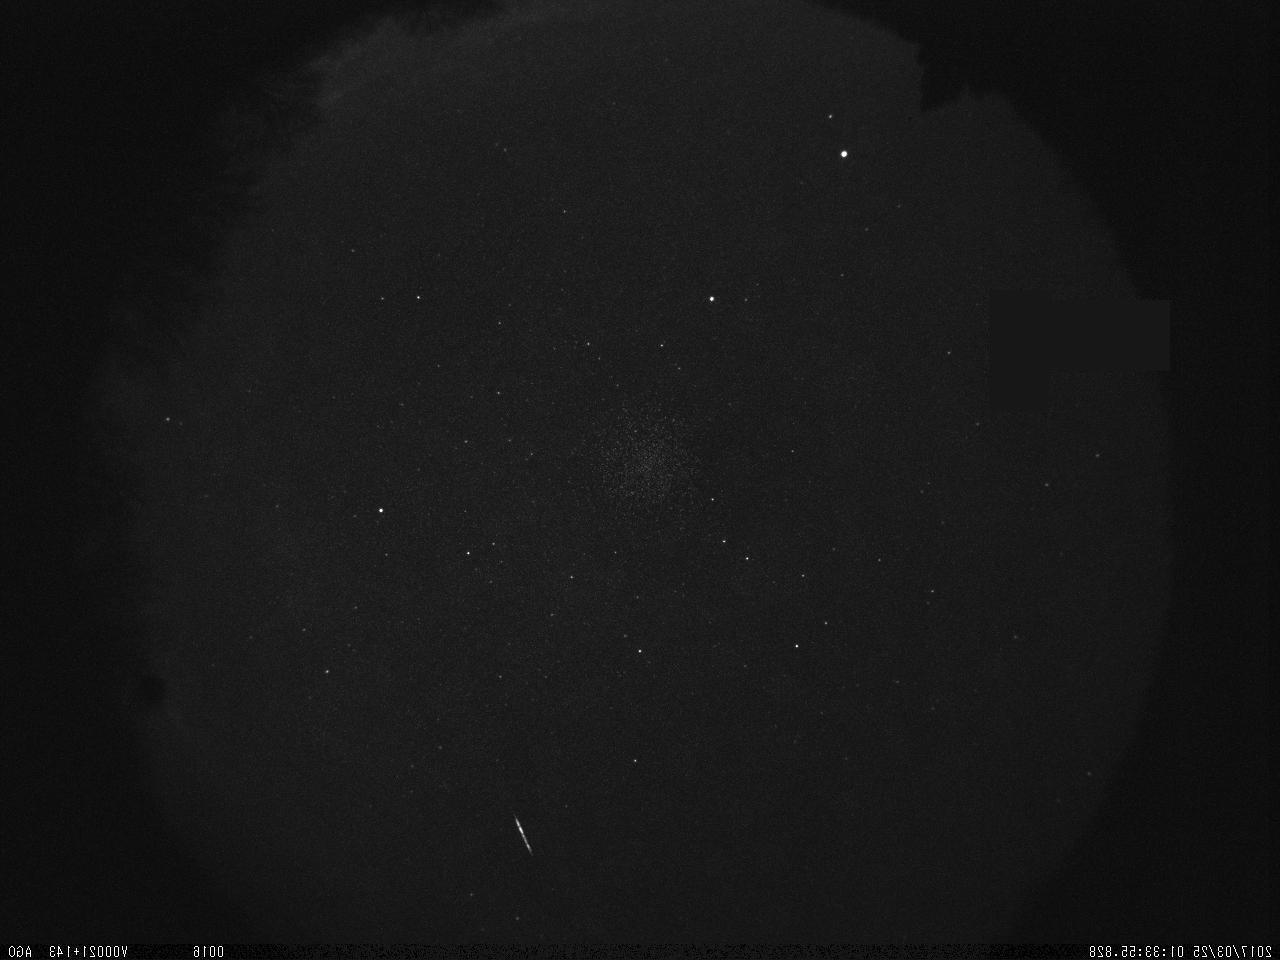meteor: (494, 800, 544, 871)
